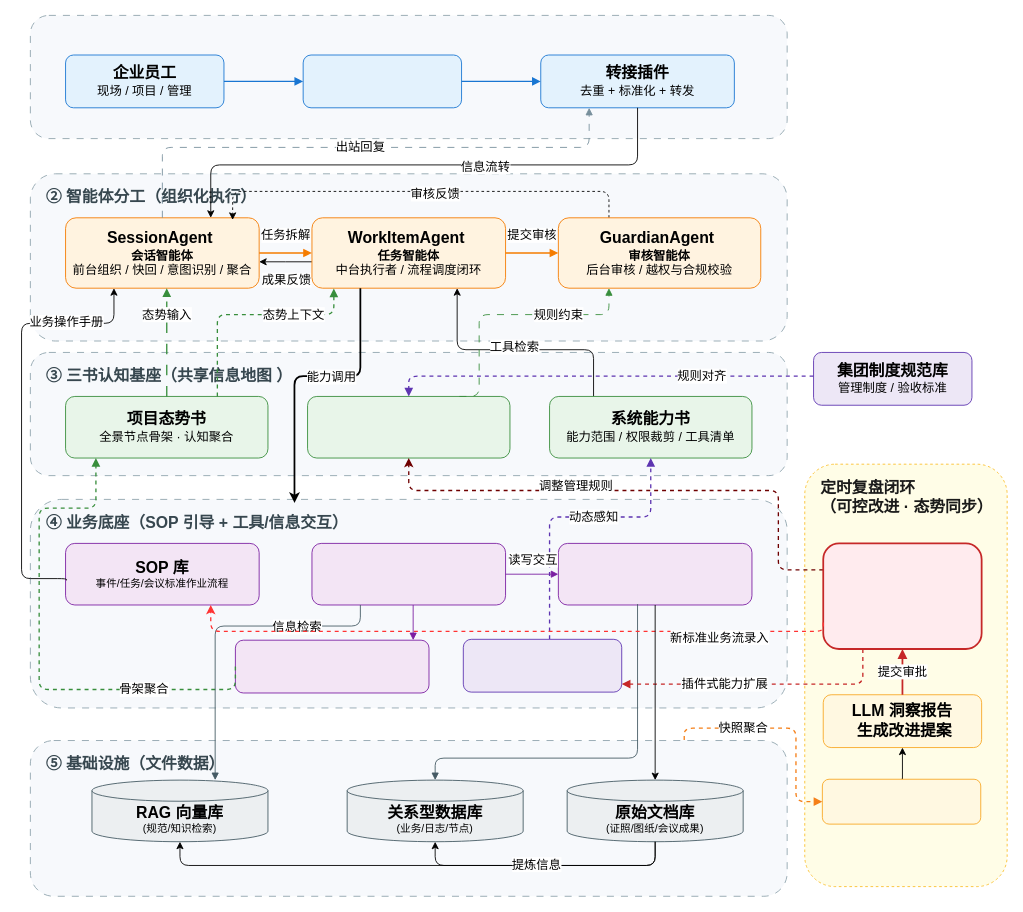
The diagram is 1023 pixels wide and 912 high, and some of its shapes have lost their labels. The box of each missing label's shape, as (x1, y1, x2, y2) in pixels:
IM 平台 自然语言交互: (302, 54, 462, 108)
① 用户与接入层（轻接入）: (29, 15, 787, 139)
人工审批放行 （管理员 / 责任人 · 系统仅提案）: (822, 542, 982, 649)
信息管理模块 长期记忆 / 待办 / 文件管理: (557, 543, 752, 605)
全局信息 快照采集: (821, 778, 981, 824)
全景节点图 （项目态势感知引擎） LLM 增强 FSM · 三态流转 · 依赖链加权: (235, 639, 429, 693)
工具服务模块 业务流工具直调 / 注册兜底: (311, 543, 506, 605)
插件能力集 技能注册: (462, 638, 622, 692)
组织规则书 架构边界 / 管控规则 / 职责: (307, 396, 510, 458)
